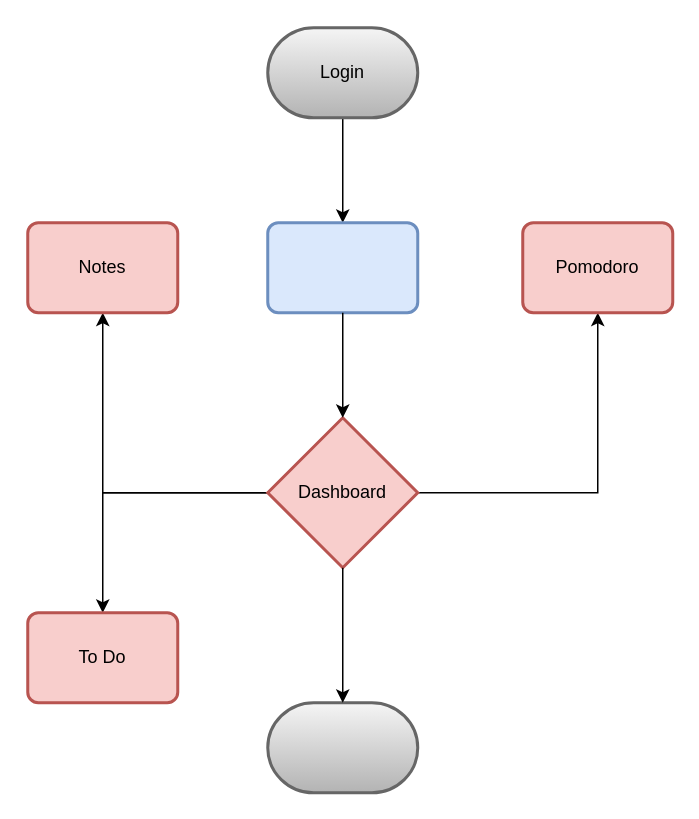
This 699x819 diagram has some shape labels left out. Each missing label, with the centre of its shape:
"Authentication" belongs at (342,267).
"Logout" belongs at (342,747).
